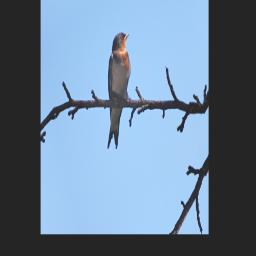Swallow: (88, 26, 148, 155)
